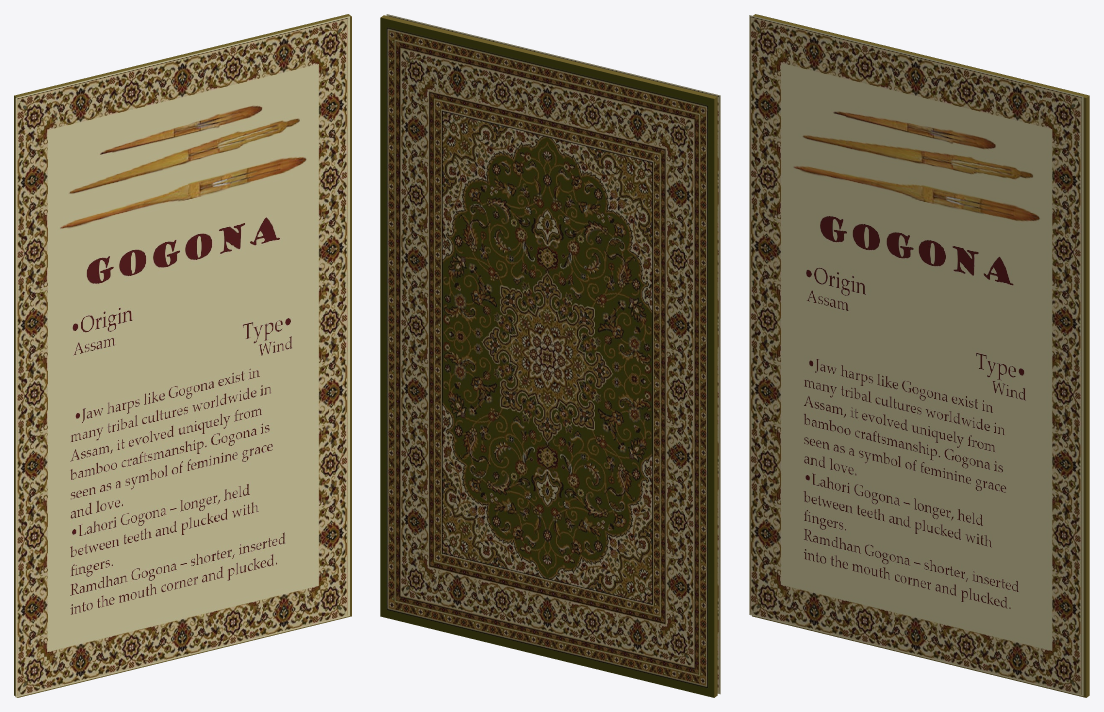
Rendered from gogonacard.glb.
3 views of the same model, side by side, from view 1: azimuth 30°, elevation 25°; view 2: azimuth 150°, elevation 25°; view 3: azimuth 330°, elevation 25° (orthographic).
Parts seen in each view (by area): view 1: Plane.002; view 2: Plane.002; view 3: Plane.002.
Part boxes in pixels (x1=…): Plane.002: x1=14, y1=14, x2=351, y2=697; Plane.002: x1=380, y1=14, x2=720, y2=697; Plane.002: x1=749, y1=14, x2=1089, y2=697.
Bounding box in the file's own units: 0.0705 × 0.1203 × 0.00142.
3 materials, 2 textured.
